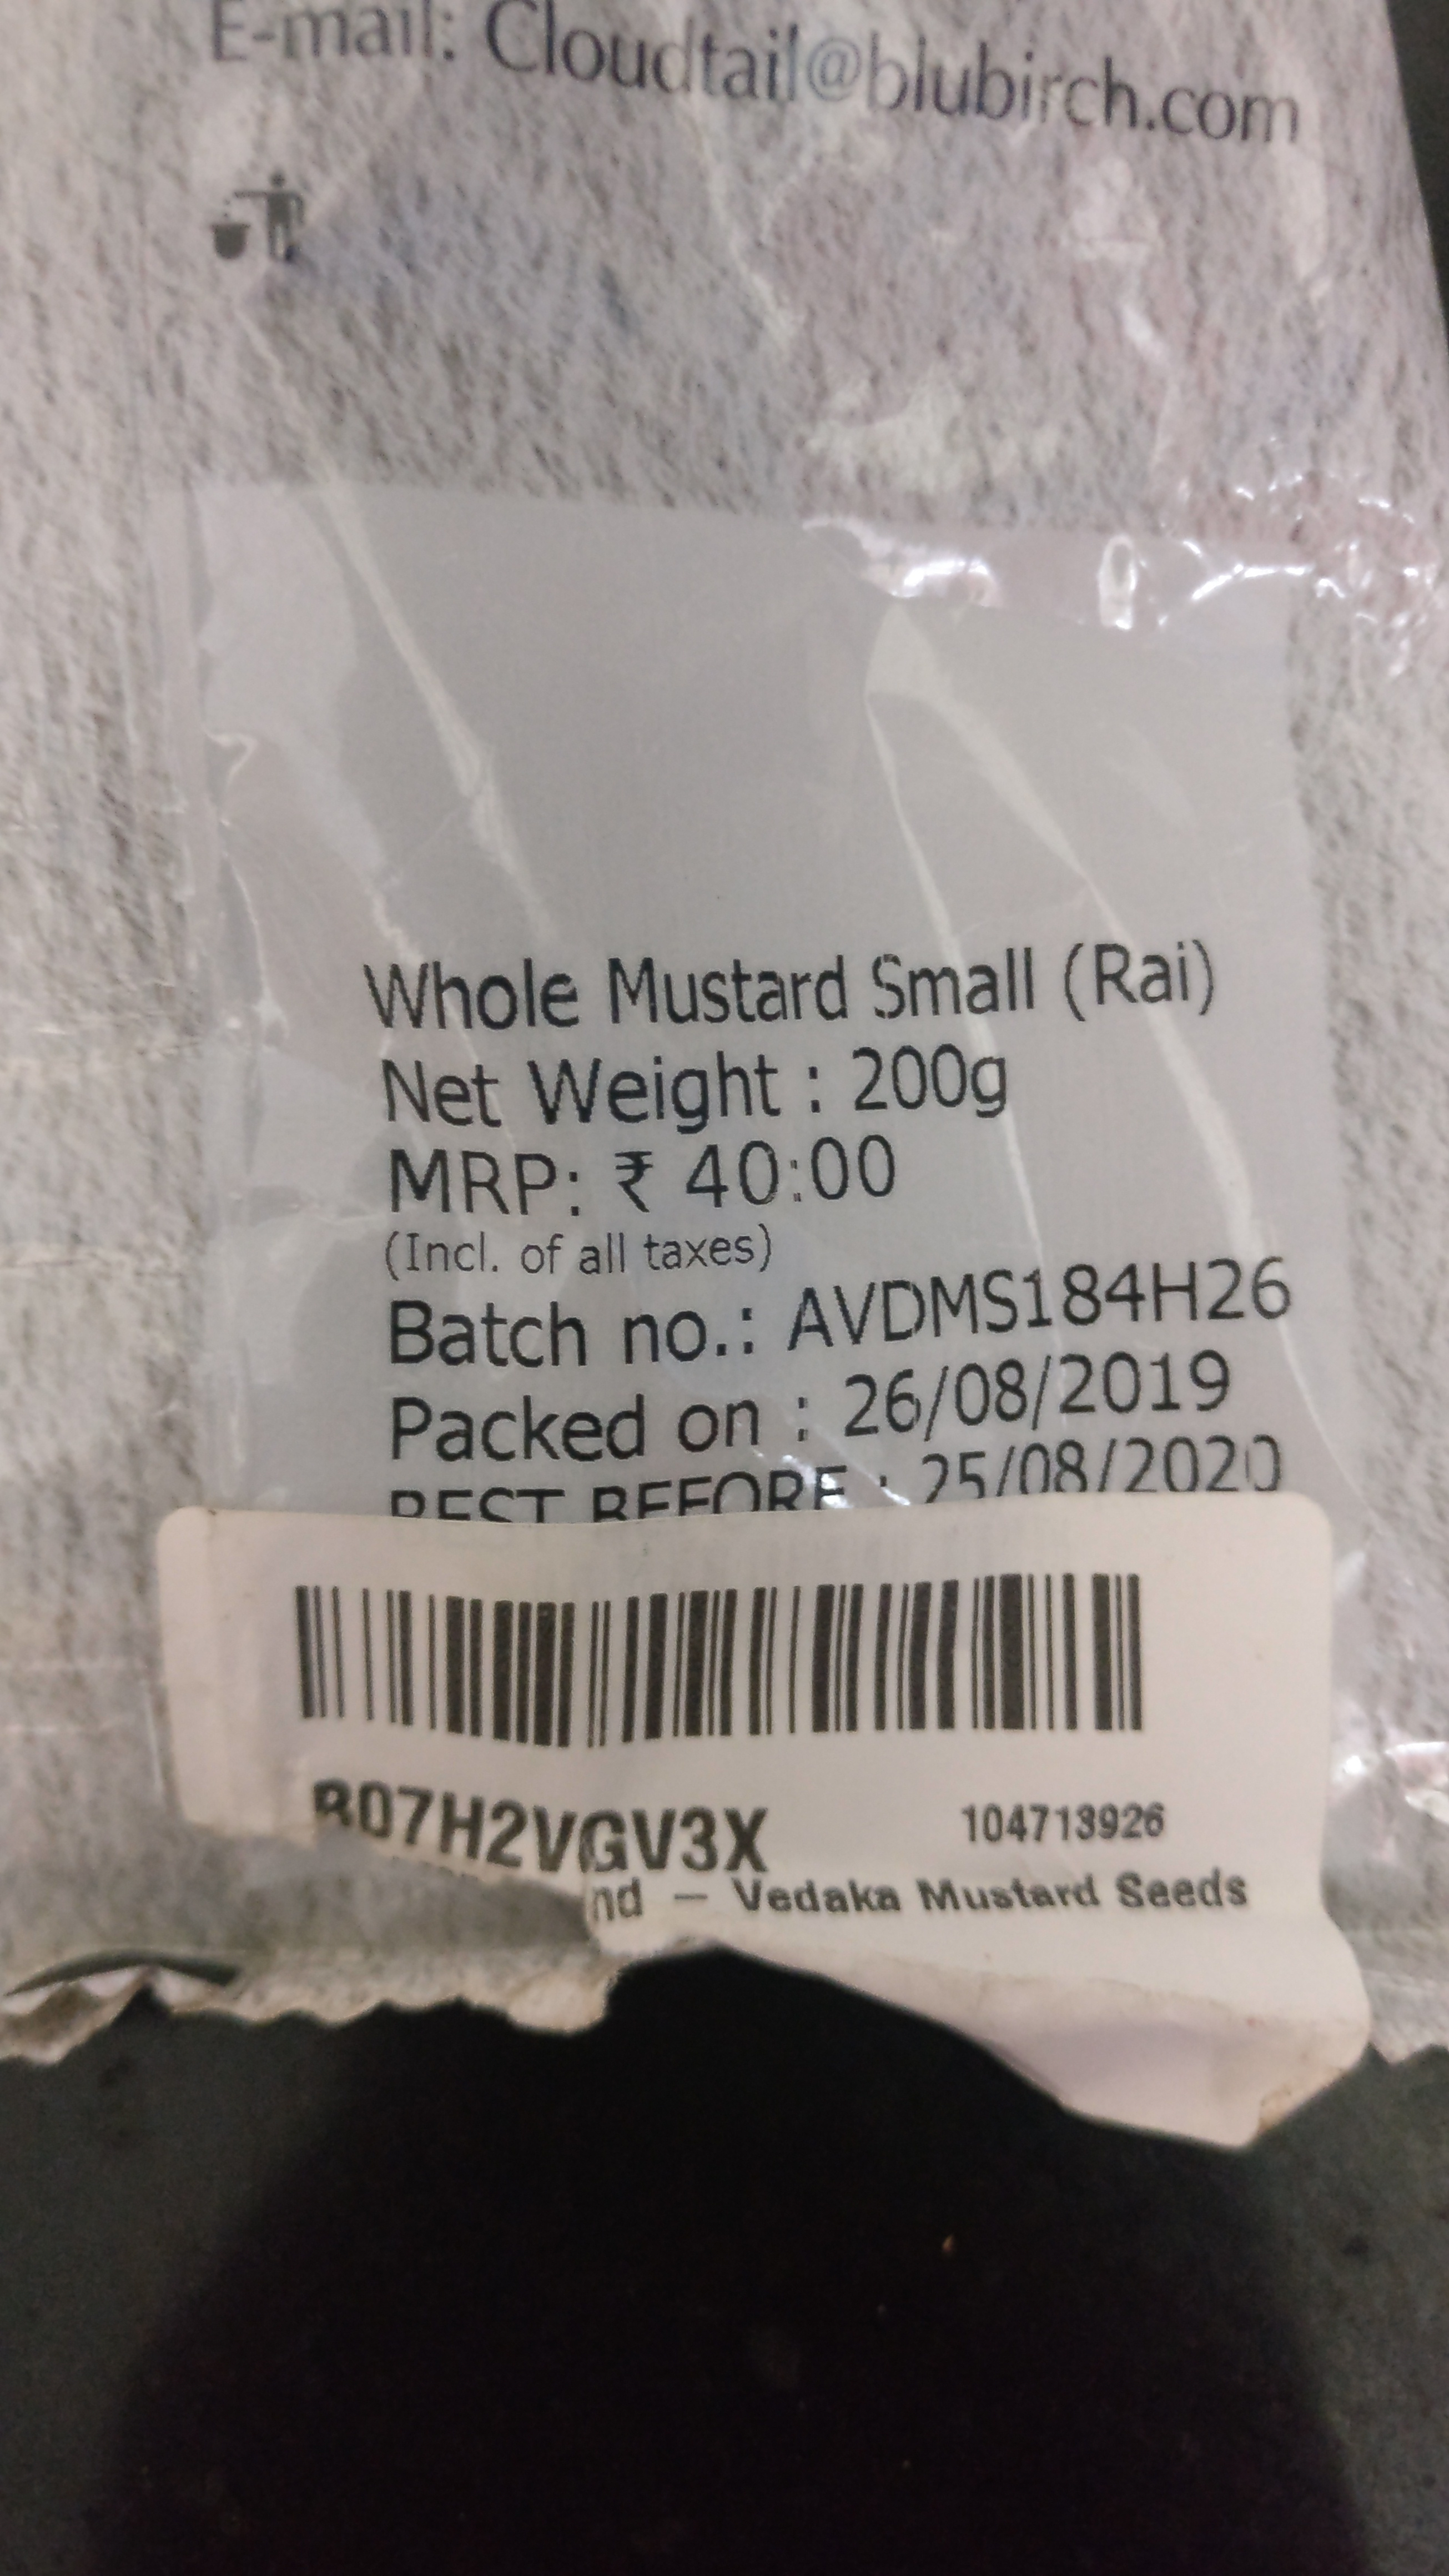barcode: (228, 1546, 1187, 1775)
